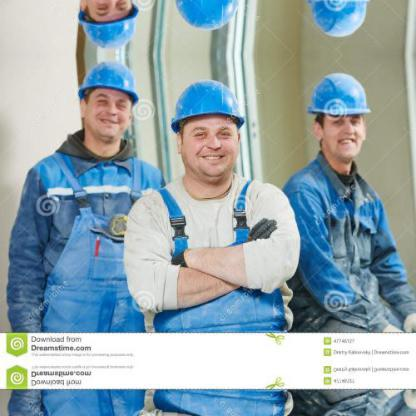helmet: (162, 69, 254, 190), (300, 62, 374, 166), (68, 54, 145, 153), (67, 0, 145, 53), (162, 0, 255, 38), (300, 0, 375, 45)
person: (129, 73, 292, 328), (8, 58, 155, 330), (291, 73, 413, 330)
